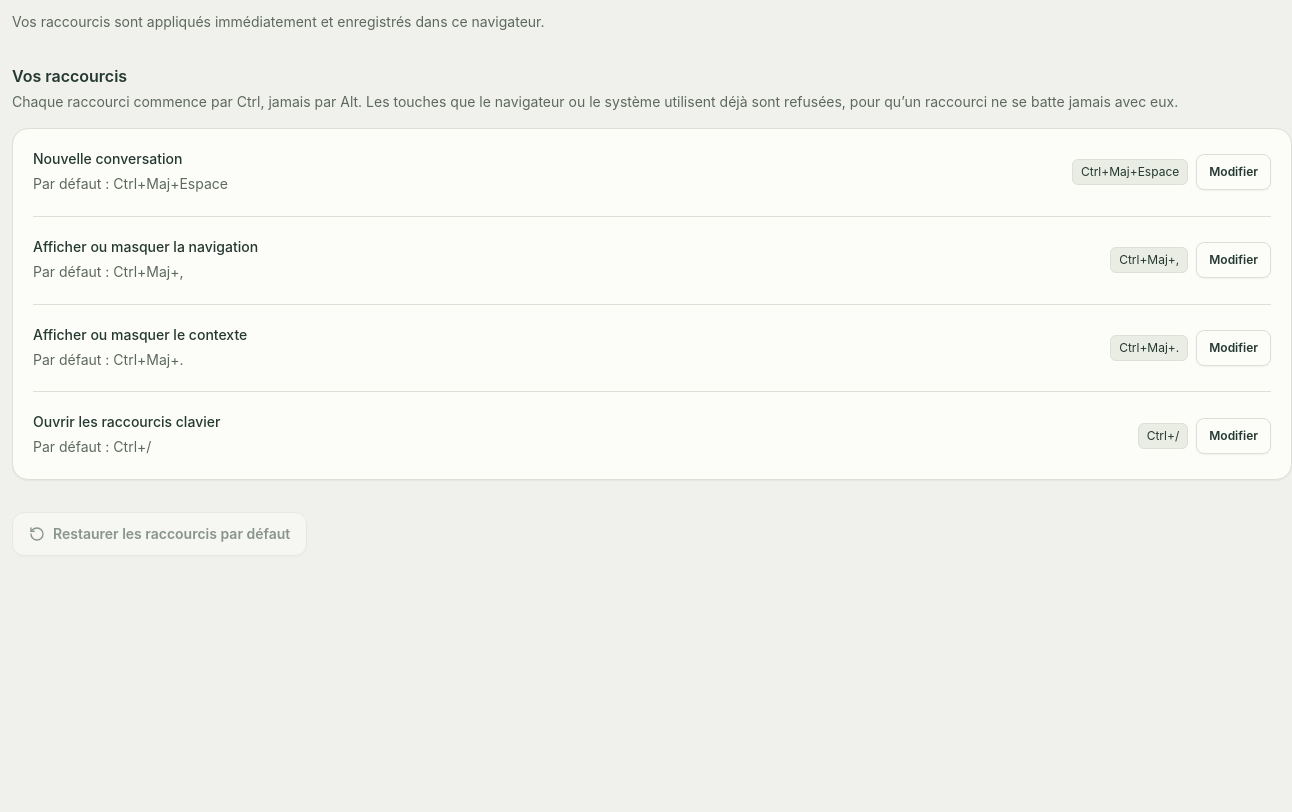
it: Keyboard shortcut settings › refuses browser-reserved keys and keys another action holds, and lets Escape cancel
Step 1. Click the button "Modifier" in the row of "Afficher ou masquer le contexte" → click(1234, 348), box [1196,330,1271,366]
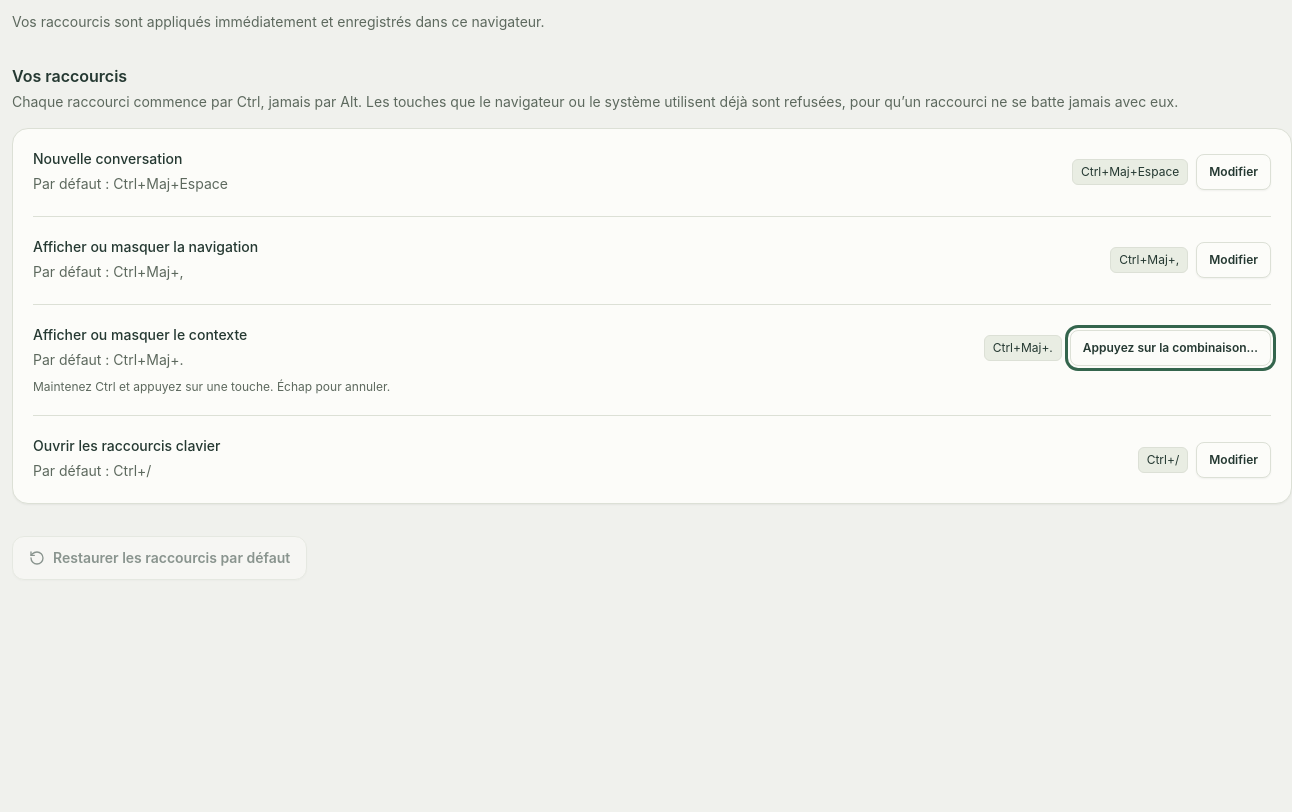
Step 2. Type keys "{Control>}[KeyT]{/Control}"
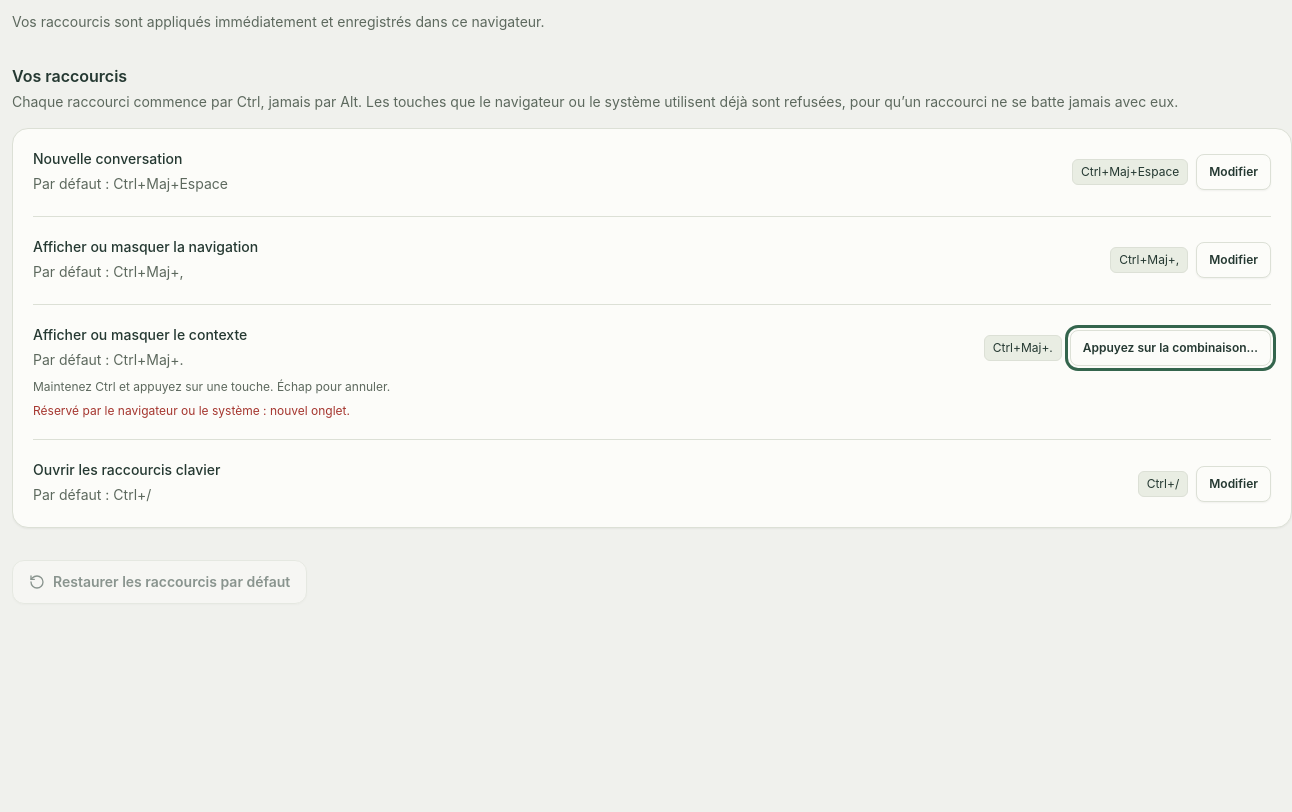
Expected: the message "Réservé par le navigateur ou le système : nouvel onglet." is shown, [33,403,350,418]
Step 3. Type keys "{Control>}{Shift>}[Comma]{/Shift}{/Control}"
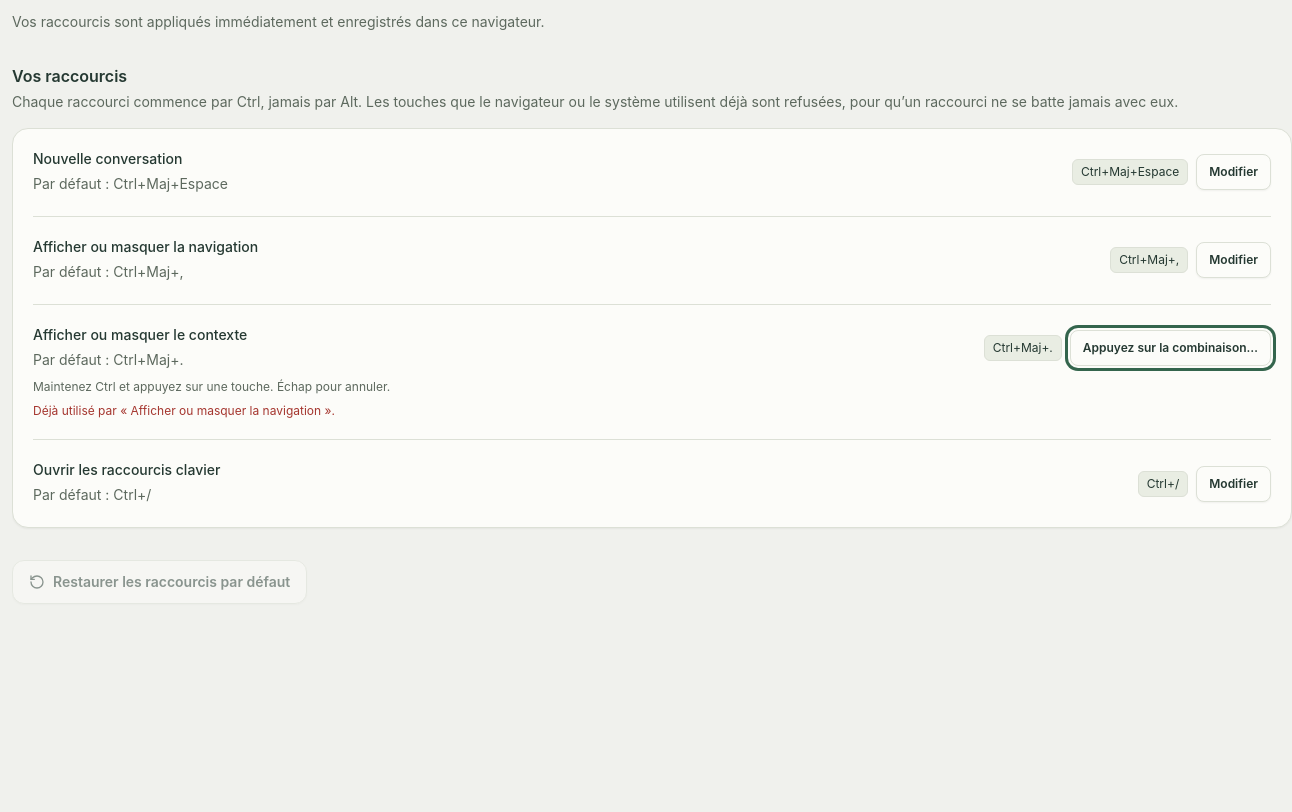
Expected: the message "Déjà utilisé par « Afficher ou masquer la navigation »." is shown, [33,403,335,418]
Step 4. Type keys "[Semicolon]"
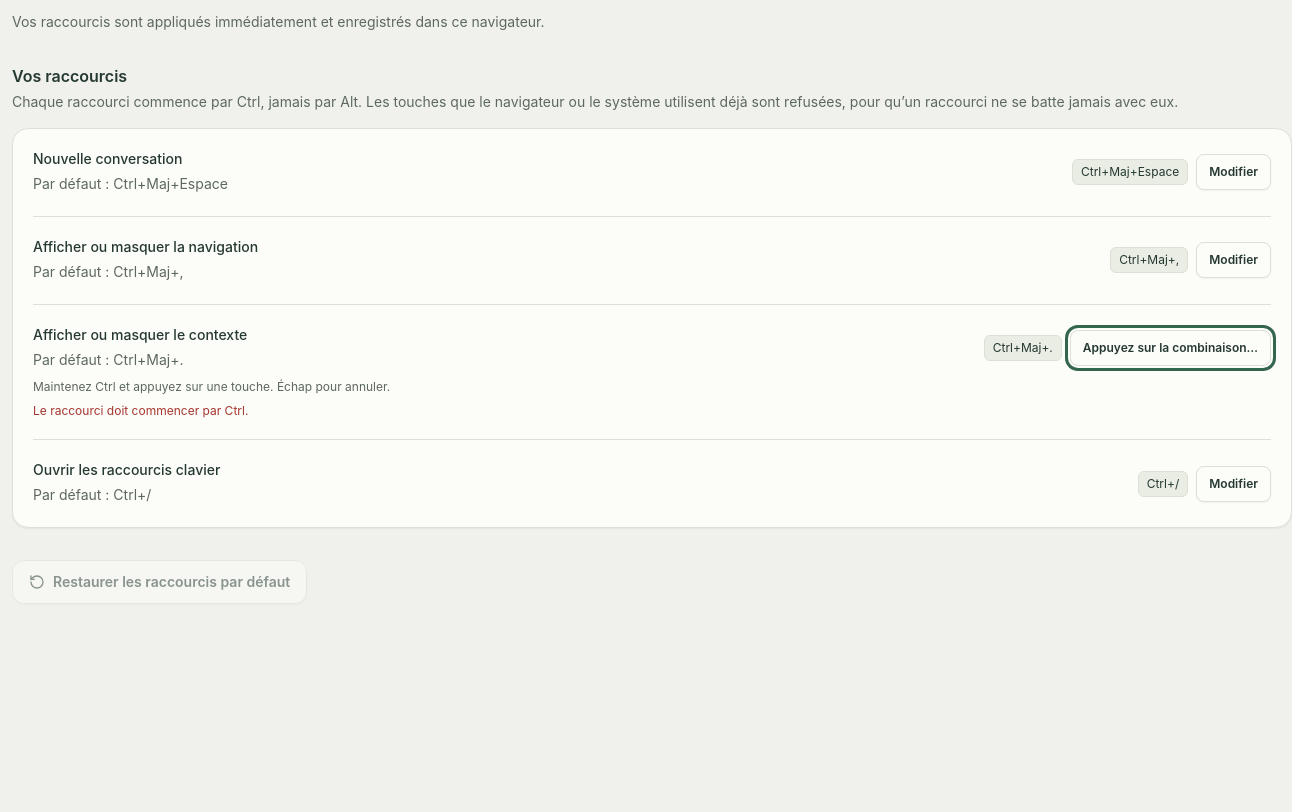
Expected: the text "Ctrl+Maj+." is shown, [984,335,1062,361]
Expected: the button "Appuyez sur la combinaison…" is shown, [1070,330,1271,366]
Expected: the message "Le raccourci doit commencer par Ctrl." is shown, [33,403,248,418]
Step 5. Press Escape
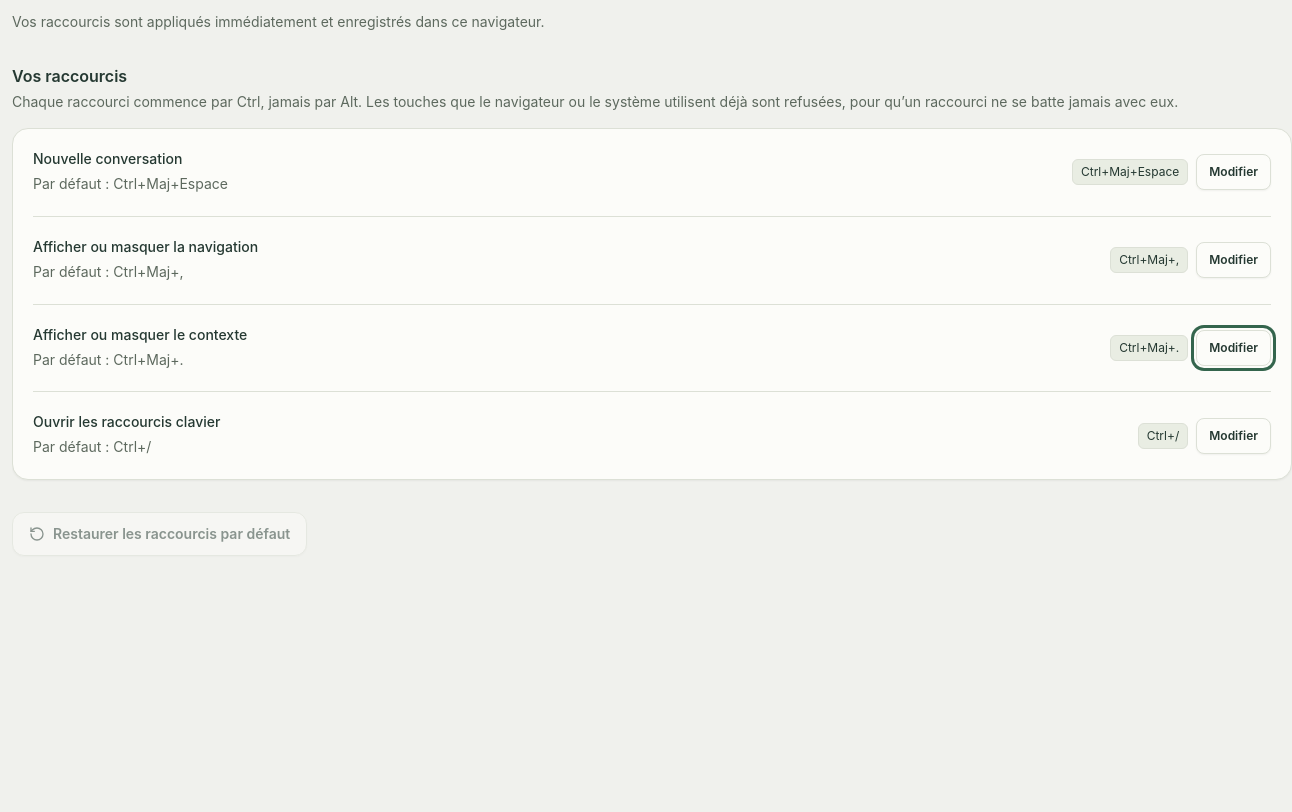
Expected: the button "Modifier" in the row of "Afficher ou masquer le contexte" is shown, [1196,330,1271,366]
